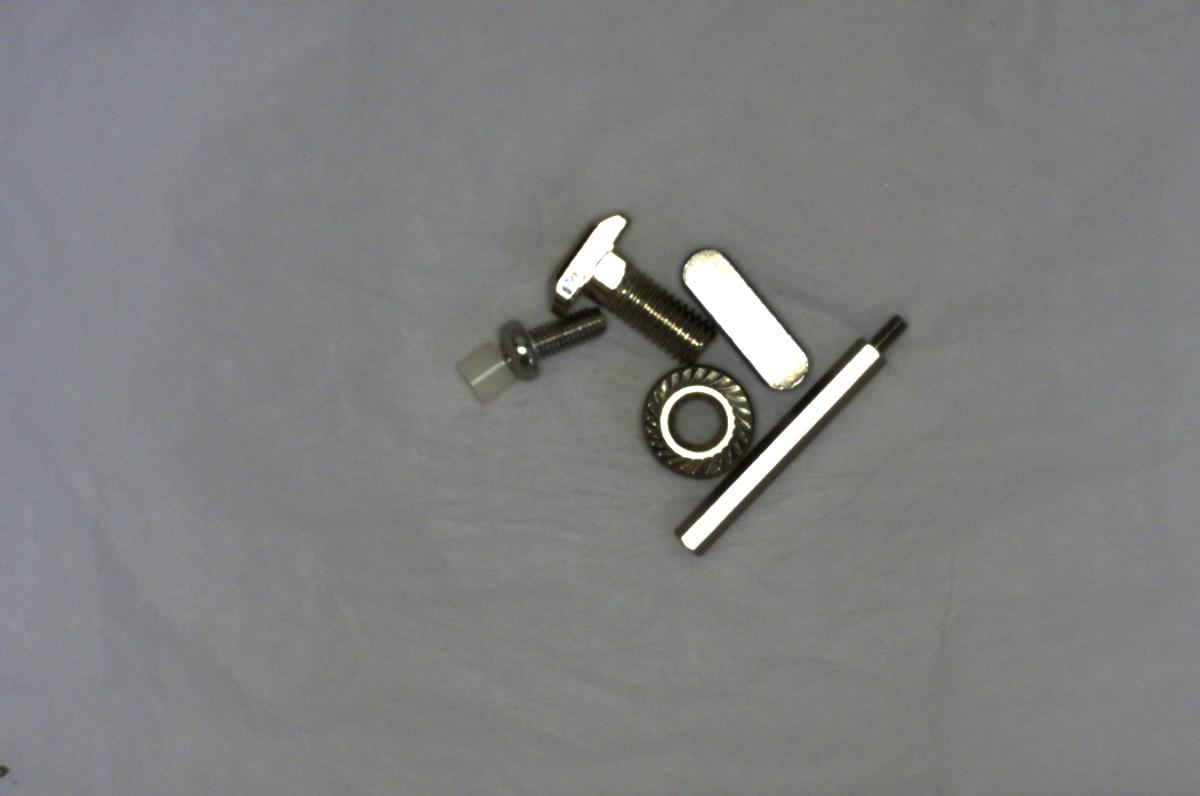Flange nut: (638, 362, 761, 486)
Hexagonal steel column: (660, 306, 919, 562)
Keybar: (675, 241, 810, 398)
Plastic cushion pillar: (443, 333, 528, 410)
Round head screw: (491, 296, 621, 387)
T-shaped screw: (546, 204, 725, 368)
